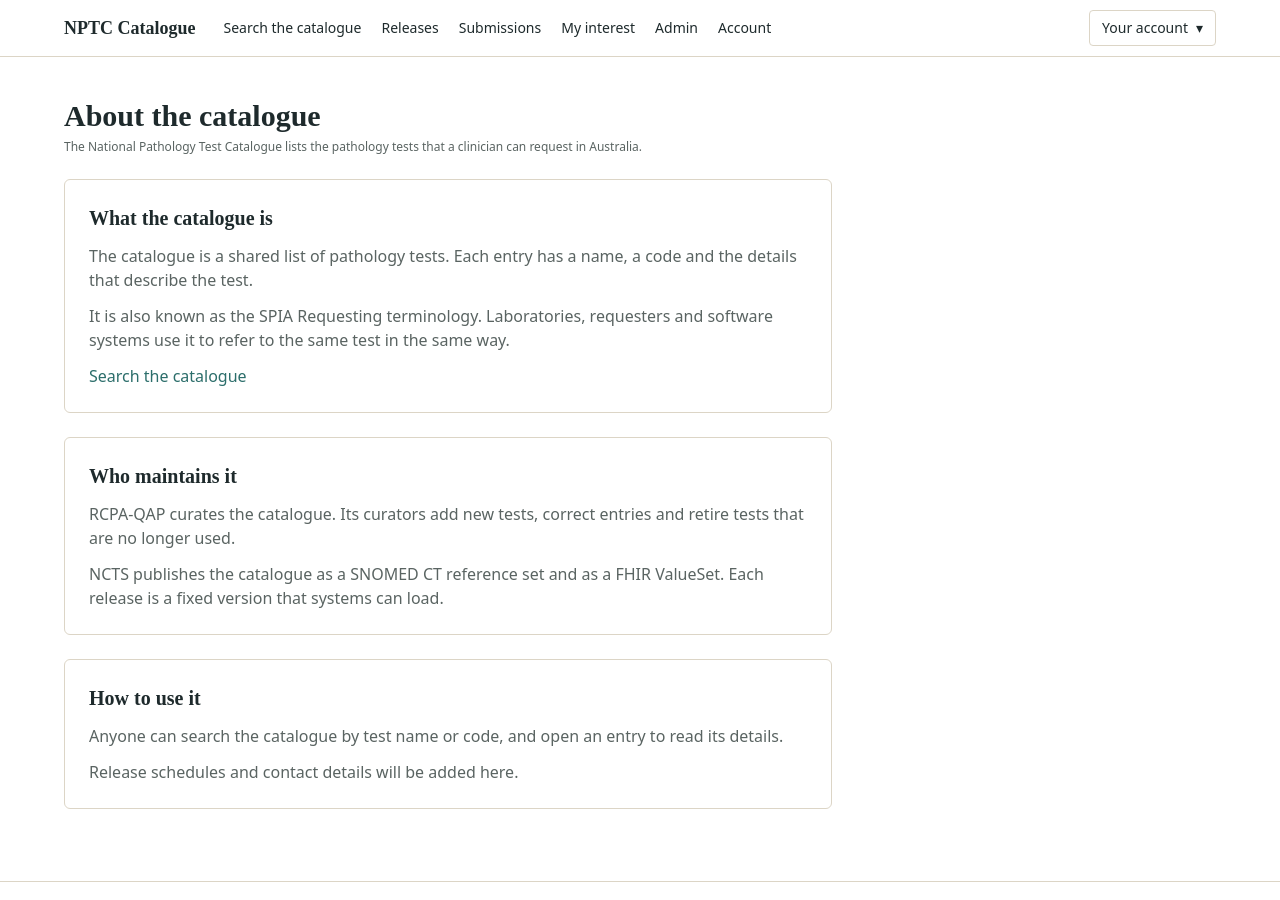
Test case: UserMenu in each auth state (NFR-31) › still offers Account and Sign out when /auth/me fails
Click the button "Your account ▾" at (1153, 28), box [1089,10,1216,46]
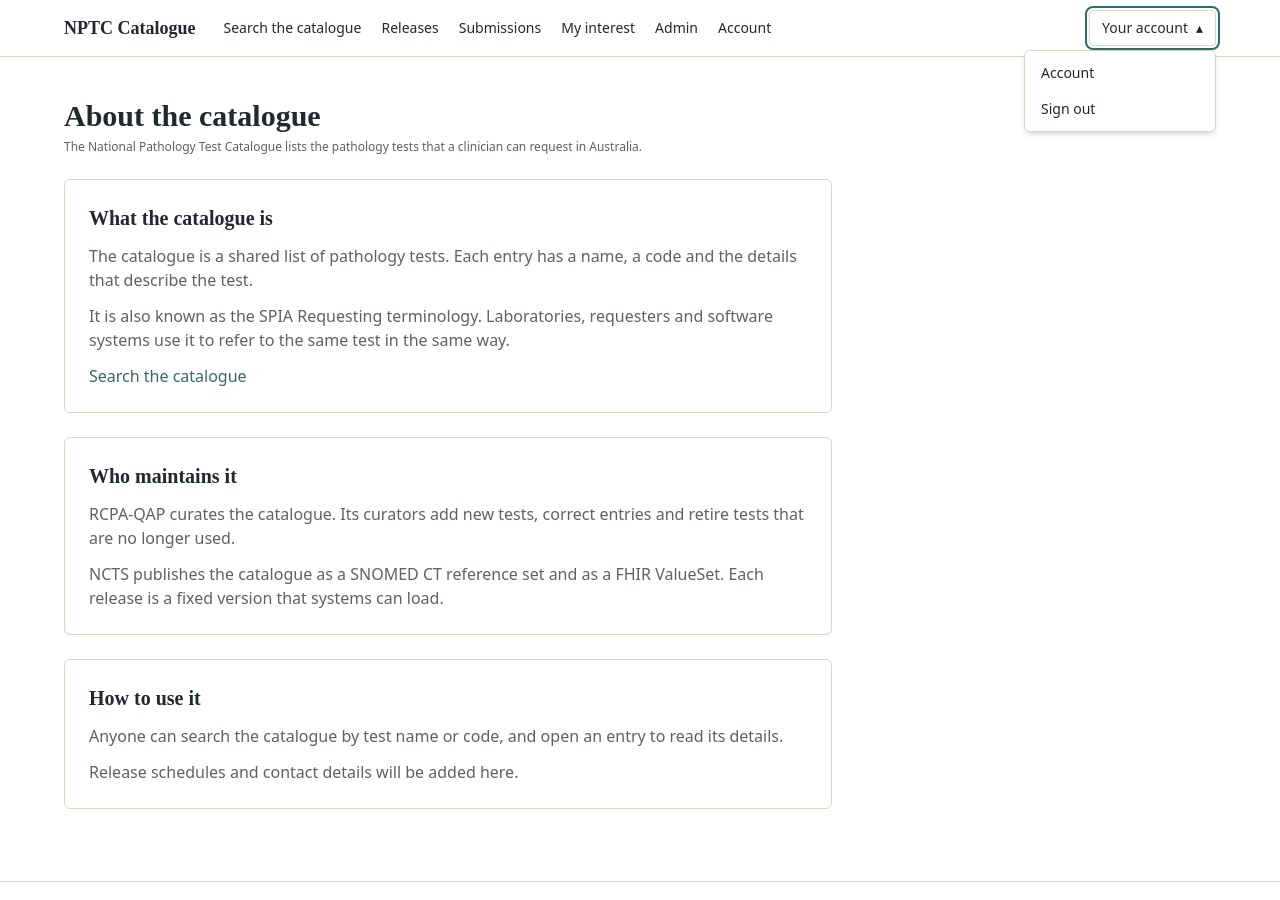
Expected: the 2nd link "Account" is shown, [1041,63,1094,82]
Expected: the link "Sign out" is shown, [1041,99,1095,118]
